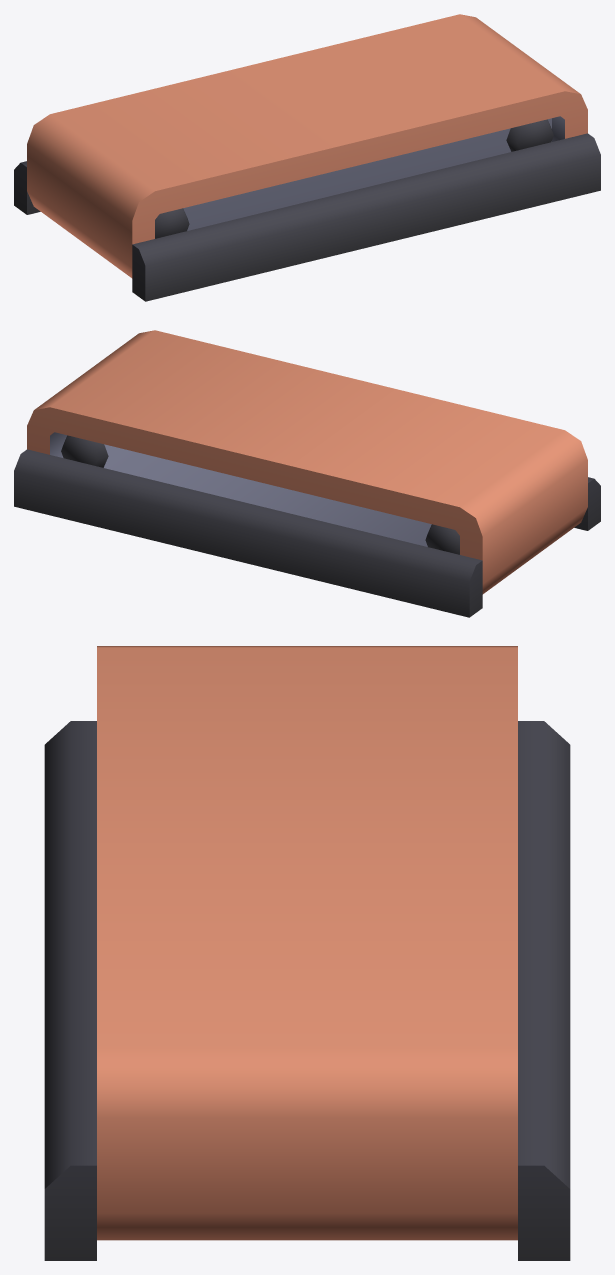
File: conveyor-long-sides.obj
3 views of the same model, one above another, from view 1: azimuth 30°, elevation 25°; view 2: azimuth 150°, elevation 25°; view 3: azimuth 270°, elevation 25° (orthographic). The views are drawn at different scales.
Parts seen in each view (by area): view 1: conveyor-long-sides; view 2: conveyor-long-sides; view 3: conveyor-long-sides.
Boxes of the visible parts, left/top/right/bottom form: conveyor-long-sides: left=14, top=14, right=600, bottom=301; conveyor-long-sides: left=14, top=330, right=600, bottom=617; conveyor-long-sides: left=44, top=646, right=570, bottom=1260.
Size of the model in its own units: 2 by 0.4 by 1.
